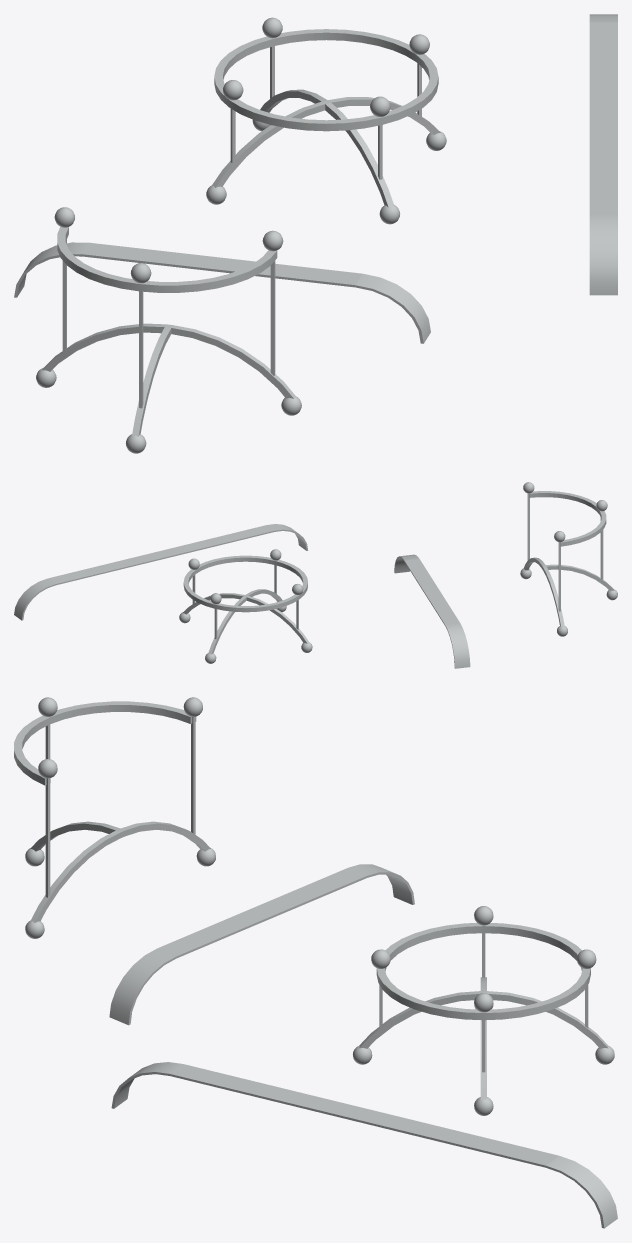
Rendered from LoungeMetal.fbx.
3 views of the same model, one above another, from view 1: azimuth 30°, elevation 25°; view 2: azimuth 150°, elevation 25°; view 3: azimuth 270°, elevation 25° (orthographic). The views are drawn at different scales.
Parts seen in each view (by area): view 1: LoungeMetal; view 2: LoungeMetal; view 3: LoungeMetal.
Part boxes in pixels (x1=…): LoungeMetal: x1=14, y1=14, x2=617, y2=453; LoungeMetal: x1=14, y1=482, x2=617, y2=668; LoungeMetal: x1=14, y1=697, x2=617, y2=1228.
Bounding box in the file's own units: 350 × 75.77 × 240.
Materials: 1 (1 with a texture image).
